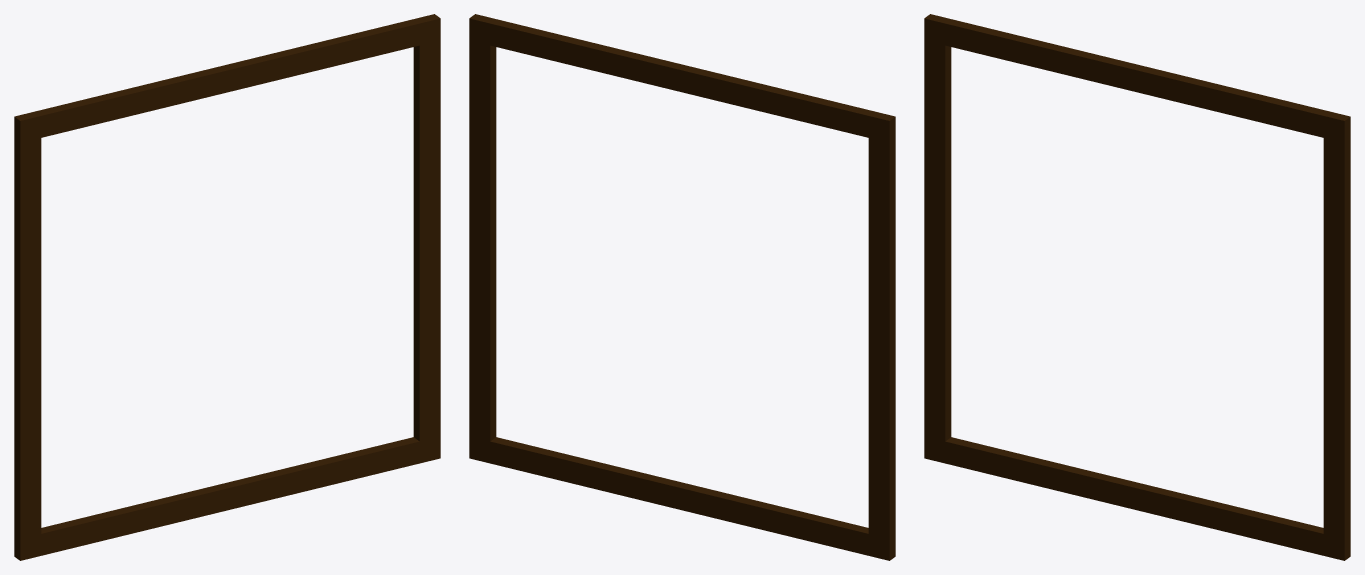
File: MirrorFrame.glb
3 renders of one model, left to right at view 1: azimuth 30°, elevation 25°; view 2: azimuth 150°, elevation 25°; view 3: azimuth 330°, elevation 25°, orthographic.
Parts seen in each view (by area): view 1: Cube; view 2: Cube; view 3: Cube.
Boxes of the visible parts, box(x1,y1,x2,y2) form: Cube: box(14, 14, 440, 560); Cube: box(469, 14, 895, 560); Cube: box(924, 14, 1350, 560).
Size of the model in its own units: 2 by 2 by 0.05.
